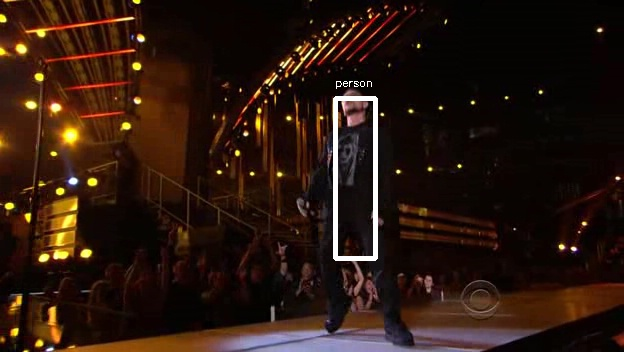person: (315, 89, 384, 235), (312, 89, 381, 235), (318, 89, 387, 235), (315, 86, 384, 232), (315, 92, 384, 238)
target_negative: (10, 152, 274, 350), (217, 92, 413, 309), (242, 310, 364, 338), (312, 339, 578, 340), (587, 329, 594, 350)
